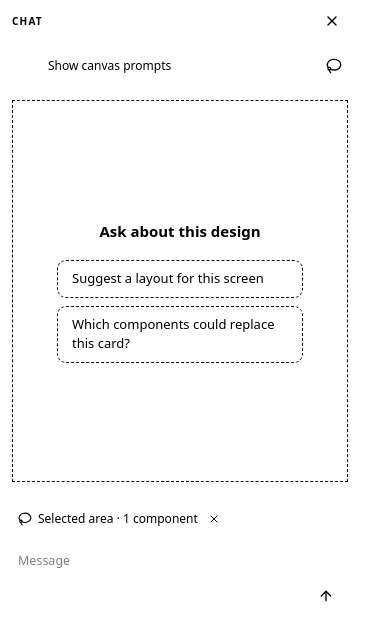
Test: removes only the draft selection while keeping the typed prompt
The image size is (365, 629).
Type "Keep this draft" into the text box labelled "Message". click: (161, 580)
box: top-left (18, 548), bottom-right (304, 612)
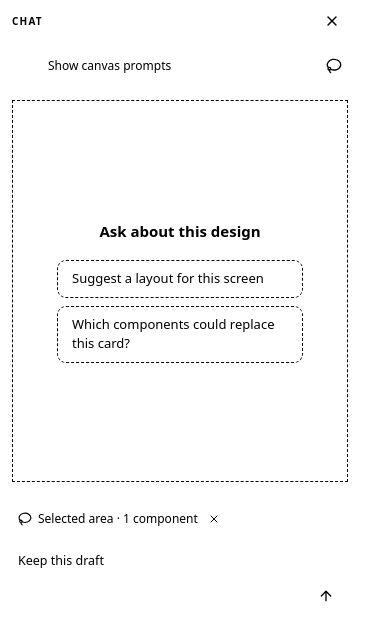
Click the button named "Remove selected area". click: (214, 519)
box: top-left (204, 509), bottom-right (224, 529)
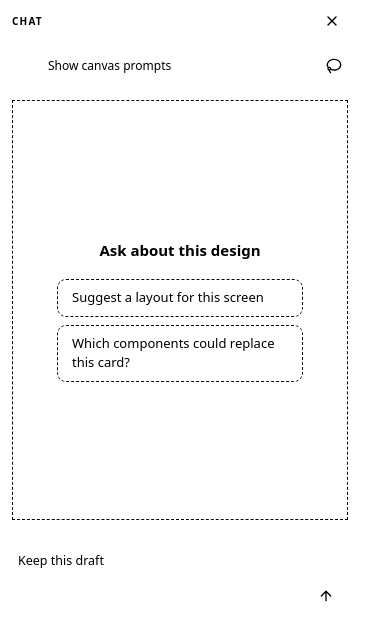
Expected: the button "Selected area · 1 component" is gone
